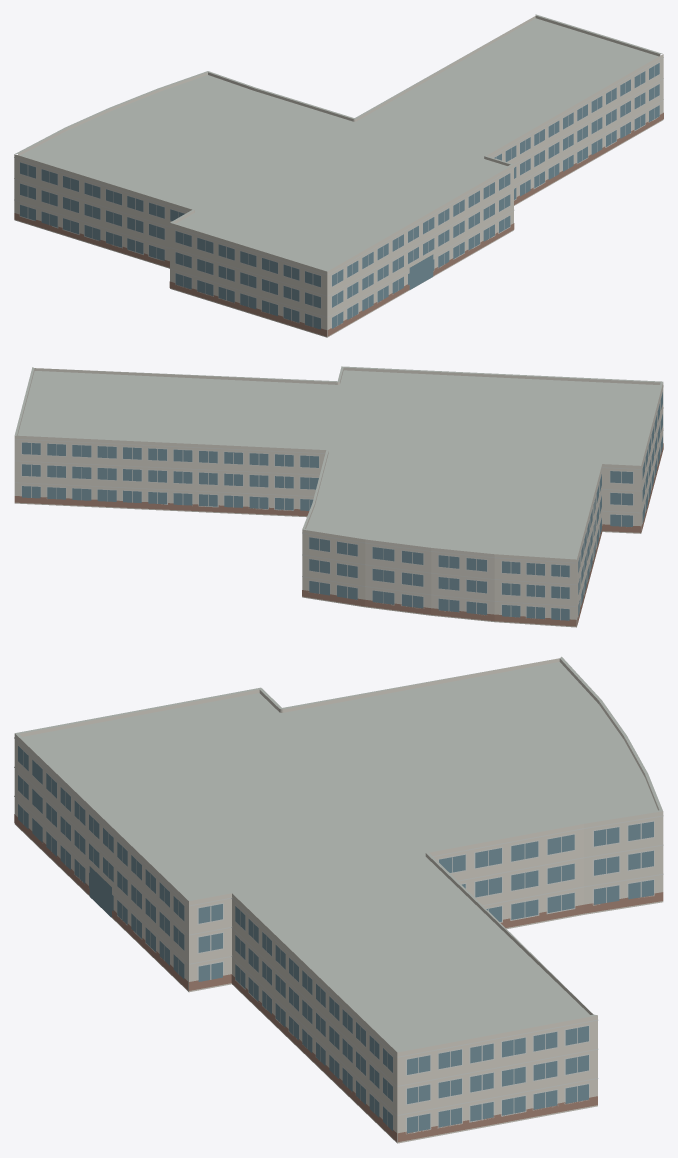
File: public-a6fd1764-5edc-4156-8d3f-c0f844aa4f4b.glb
3 views of the same model, one above another, from view 1: azimuth 30°, elevation 25°; view 2: azimuth 150°, elevation 25°; view 3: azimuth 270°, elevation 25° (orthographic). The views are drawn at different scales.
Visible parts, largest first — view 1: public-a6fd1764-5edc-4156-8d3f-c0f844aa4f4b; view 2: public-a6fd1764-5edc-4156-8d3f-c0f844aa4f4b; view 3: public-a6fd1764-5edc-4156-8d3f-c0f844aa4f4b.
Part boxes in pixels (x1,y1,x2,y2): public-a6fd1764-5edc-4156-8d3f-c0f844aa4f4b: (14,14,663,337); public-a6fd1764-5edc-4156-8d3f-c0f844aa4f4b: (14,366,663,627); public-a6fd1764-5edc-4156-8d3f-c0f844aa4f4b: (14,656,663,1143).
Size of the model in its own units: 85.47 by 9.15 by 59.18.
